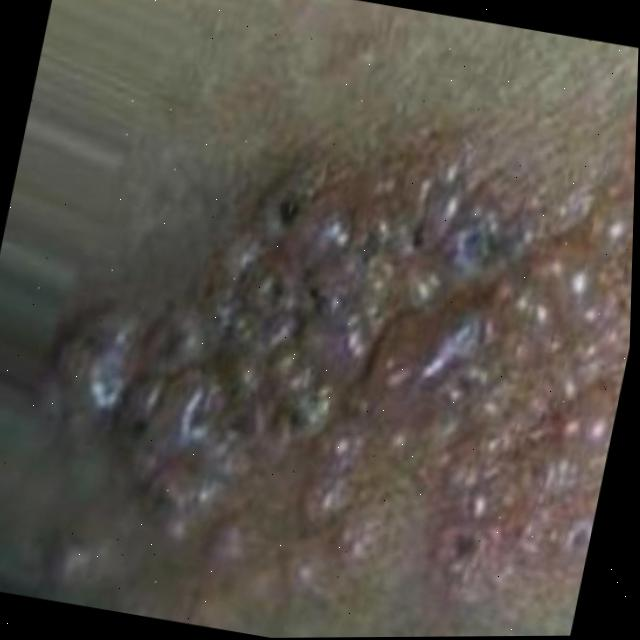Shingles: (19, 76, 638, 640)
